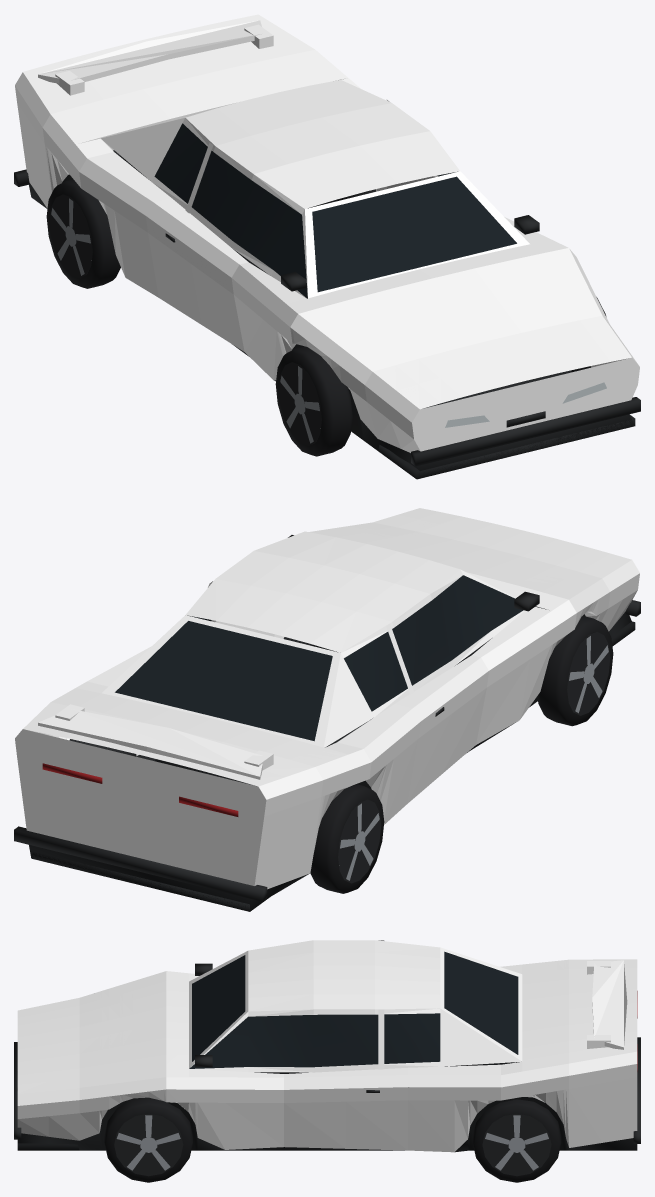
Rendered from sanga_lava.glb.
3 renders of one model, top to bottom at view 1: azimuth 30°, elevation 25°; view 2: azimuth 150°, elevation 25°; view 3: azimuth 270°, elevation 25°, orthographic. The views are drawn at different scales.
Parts seen in each view (by area): view 1: Body_Paint, Body_Details, Mount_FrontLeft_Wheel_Details, Mount_RearLeft_Wheel_Details; view 2: Body_Paint, Body_Details, Mount_RearLeft_Wheel_Details, Mount_FrontLeft_Wheel_Details; view 3: Body_Paint, Body_Details, Mount_FrontRight_Wheel_Details, Mount_RearRight_Wheel_Details.
Part boxes in pixels (box(x1,y1,x2,y2)): Body_Paint: box(15, 14, 639, 452); Body_Details: box(14, 123, 640, 479); Mount_FrontLeft_Wheel_Details: box(275, 346, 352, 456); Mount_RearLeft_Wheel_Details: box(46, 179, 120, 288); Body_Paint: box(15, 508, 639, 889); Body_Details: box(14, 535, 640, 911); Mount_RearLeft_Wheel_Details: box(310, 784, 384, 893); Mount_FrontLeft_Wheel_Details: box(537, 616, 613, 726); Body_Paint: box(17, 940, 637, 1152); Body_Details: box(14, 951, 640, 1152); Mount_FrontRight_Wheel_Details: box(104, 1097, 192, 1182); Mount_RearRight_Wheel_Details: box(472, 1099, 561, 1182).
Size of the model in its own units: 2.02 by 1.28 by 4.66.
2 materials, 1 textured.
